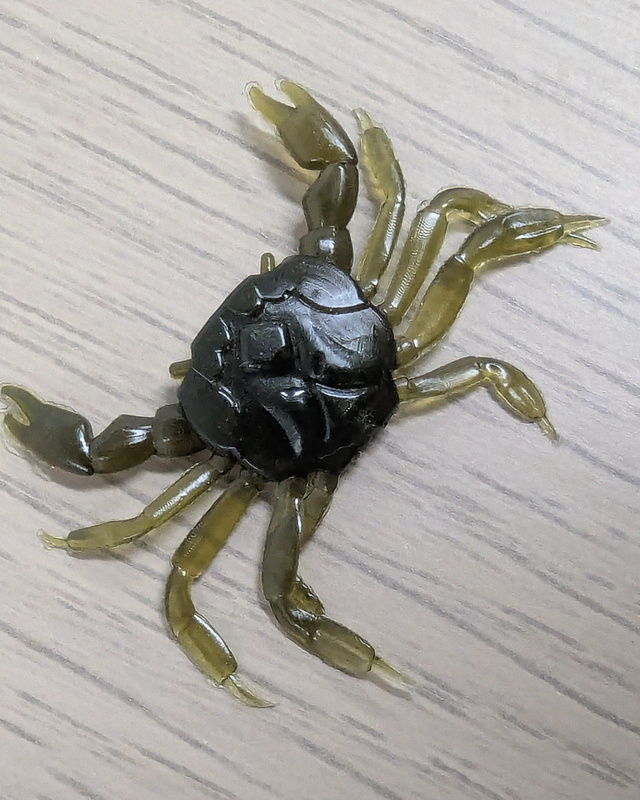crab2: (2, 75, 613, 711)
